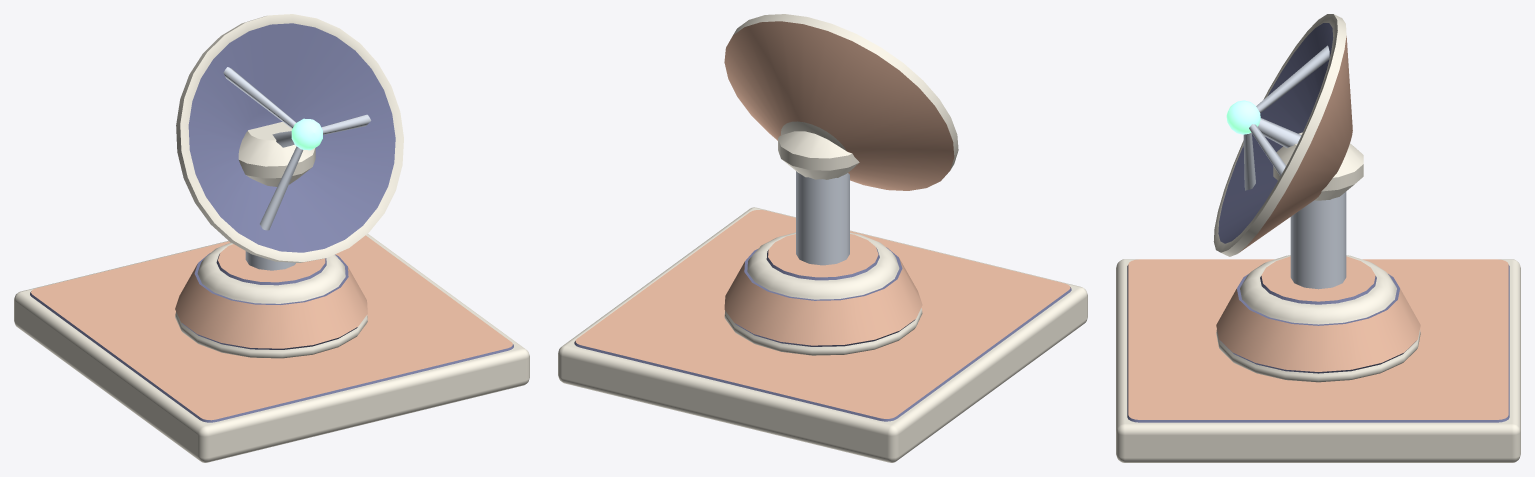
The model's file is R4X_Radar.fbx.
3 views of the same model, side by side, from view 1: azimuth 30°, elevation 25°; view 2: azimuth 150°, elevation 25°; view 3: azimuth 270°, elevation 25° (orthographic). The views are drawn at different scales.
Visible parts, largest first — view 1: R4X_Radar_Body, R4X_Radar_Dish; view 2: R4X_Radar_Body, R4X_Radar_Dish; view 3: R4X_Radar_Body, R4X_Radar_Dish.
Part boxes in pixels (x1=…): R4X_Radar_Body: x1=14, y1=234, x2=529, y2=462; R4X_Radar_Dish: x1=176, y1=14, x2=403, y2=262; R4X_Radar_Body: x1=558, y1=171, x2=1087, y2=462; R4X_Radar_Dish: x1=724, y1=14, x2=958, y2=190; R4X_Radar_Body: x1=1116, y1=191, x2=1520, y2=462; R4X_Radar_Dish: x1=1213, y1=14, x2=1363, y2=256.
Size of the model in its own units: 0.514 by 0.4976 by 0.514.
